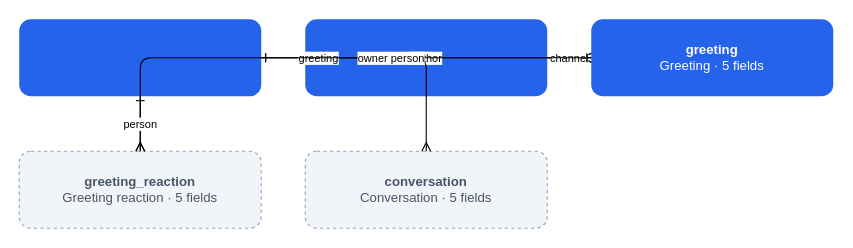
This 853x248 diagram has some shape labels left out. Here are the shapes that lost their labels. From the top down, the box of each, then its label:
(19, 19, 261, 96): person Person · 4 fields
(305, 19, 547, 96): channel Channel · 4 fields
